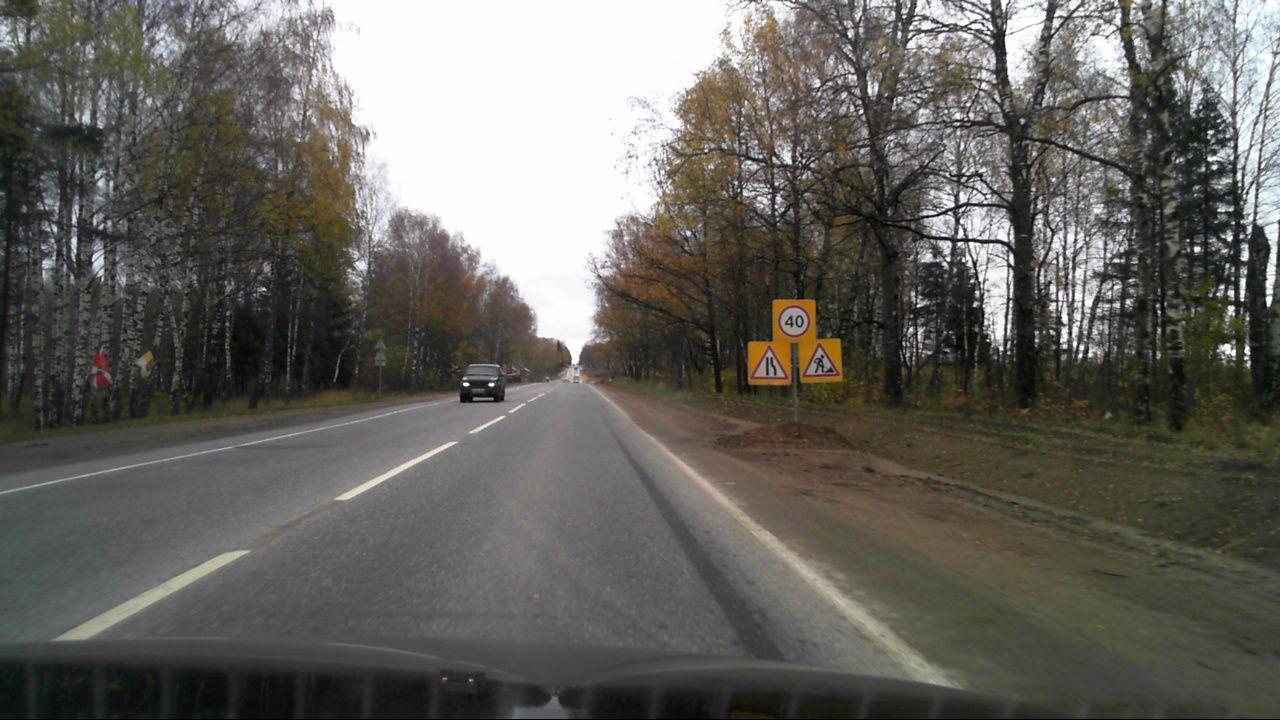1_20_2: (747, 341, 790, 384)
1_25: (802, 343, 840, 377)
3_24: (776, 305, 812, 338)
